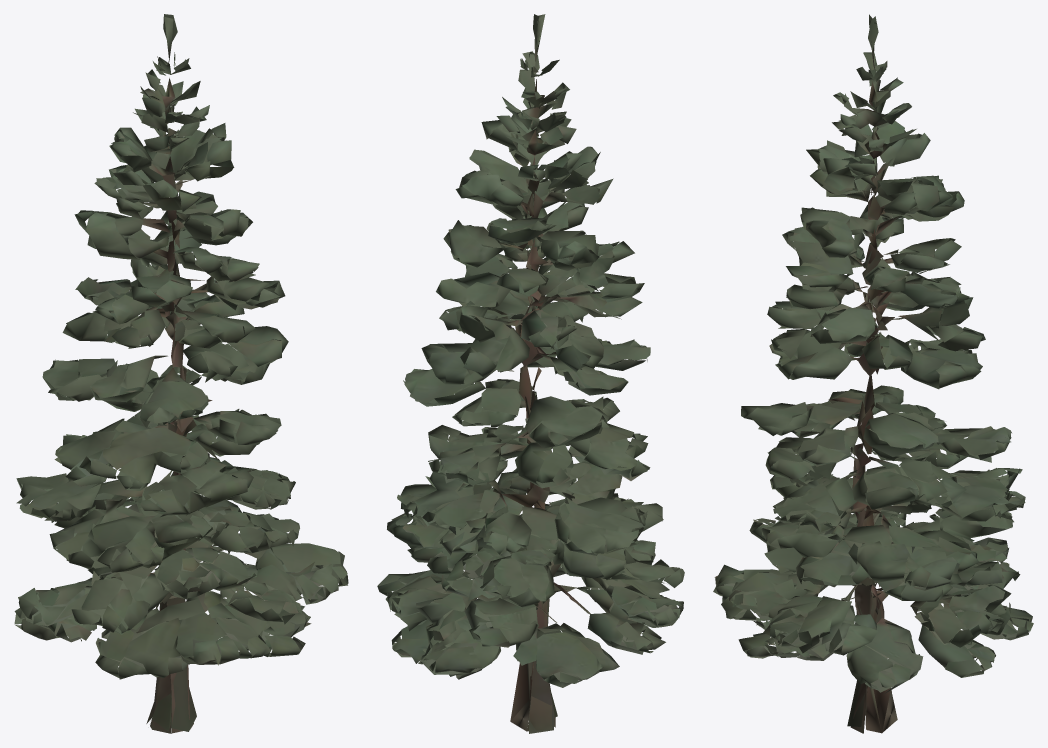
File: pine.glb
3 views of the same model, side by side, from view 1: azimuth 30°, elevation 25°; view 2: azimuth 150°, elevation 25°; view 3: azimuth 270°, elevation 25° (orthographic).
Visible parts, largest first — view 1: mesh_node; view 2: mesh_node; view 3: mesh_node.
Boxes of the visible parts, x1,y1,x2,y2 form: mesh_node: (14, 14, 348, 733); mesh_node: (377, 14, 684, 733); mesh_node: (713, 14, 1033, 733).
Size of the model in its own units: 5.11 by 11.97 by 4.92.
1 material, 1 textured.
